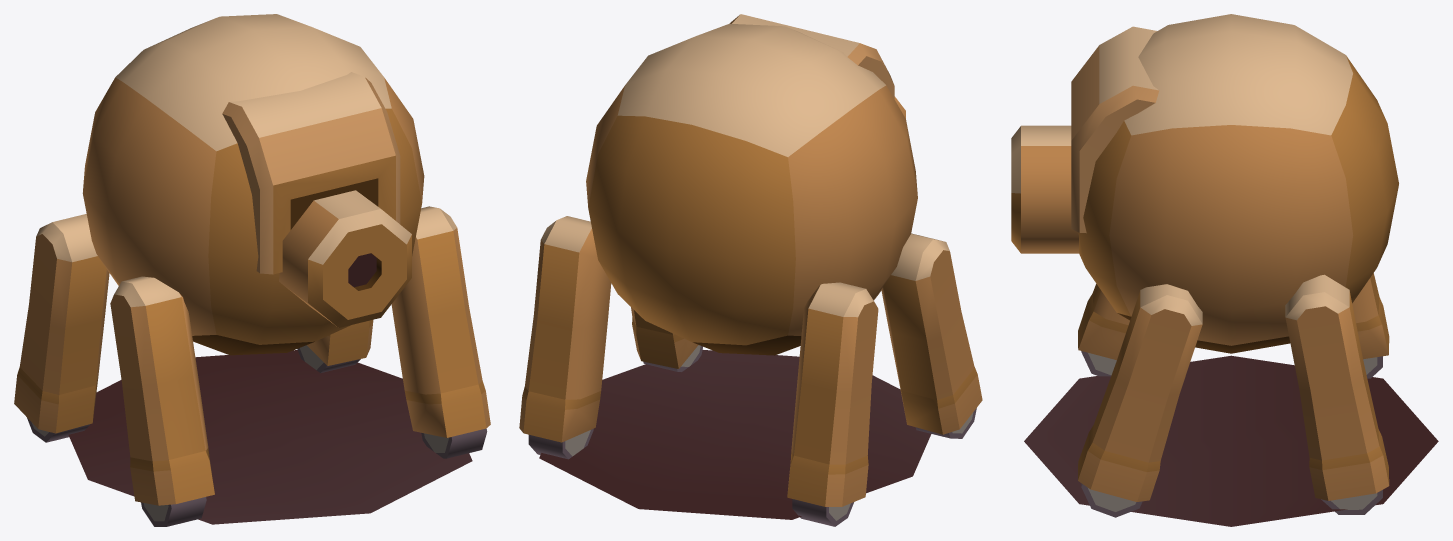
Rendered from NeoTankMesh.BrownDesert.glb.
3 views of the same model, side by side, from view 1: azimuth 30°, elevation 25°; view 2: azimuth 150°, elevation 25°; view 3: azimuth 270°, elevation 25° (orthographic). The views are drawn at different scales.
Visible parts, largest first — view 1: NeoTankMesh.BrownDesert; view 2: NeoTankMesh.BrownDesert; view 3: NeoTankMesh.BrownDesert.
Boxes of the visible parts, x1,y1,x2,y2 form: NeoTankMesh.BrownDesert: (14,14,490,526); NeoTankMesh.BrownDesert: (519,14,982,526); NeoTankMesh.BrownDesert: (1011,14,1438,526).
Size of the model in its own units: 2.03 by 2.26 by 2.14.
Materials: 1 (1 with a texture image).
